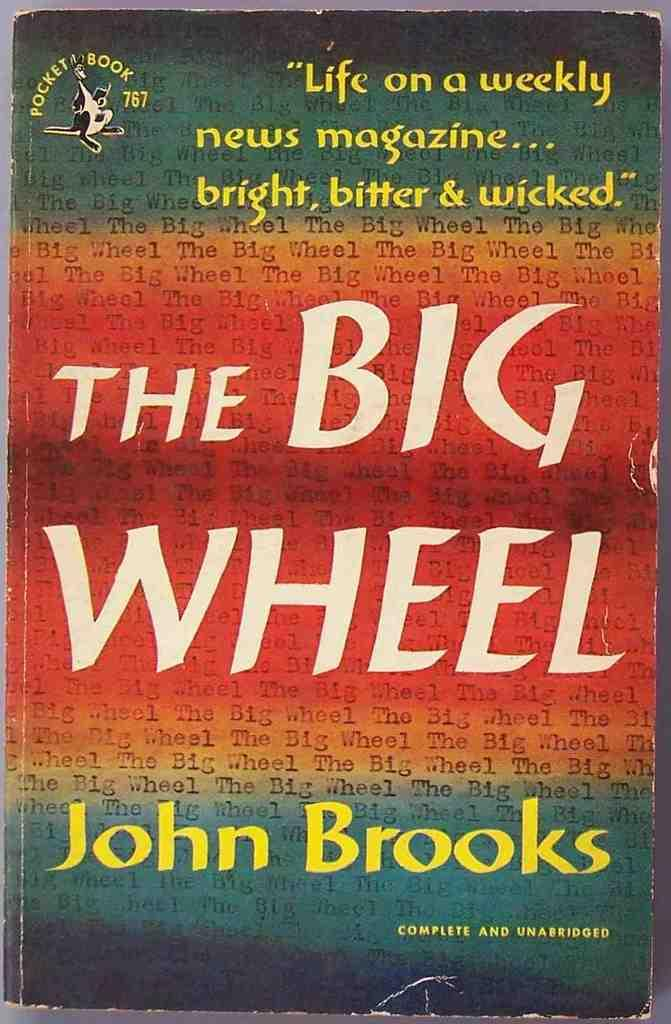book: (1, 22, 662, 1006)
